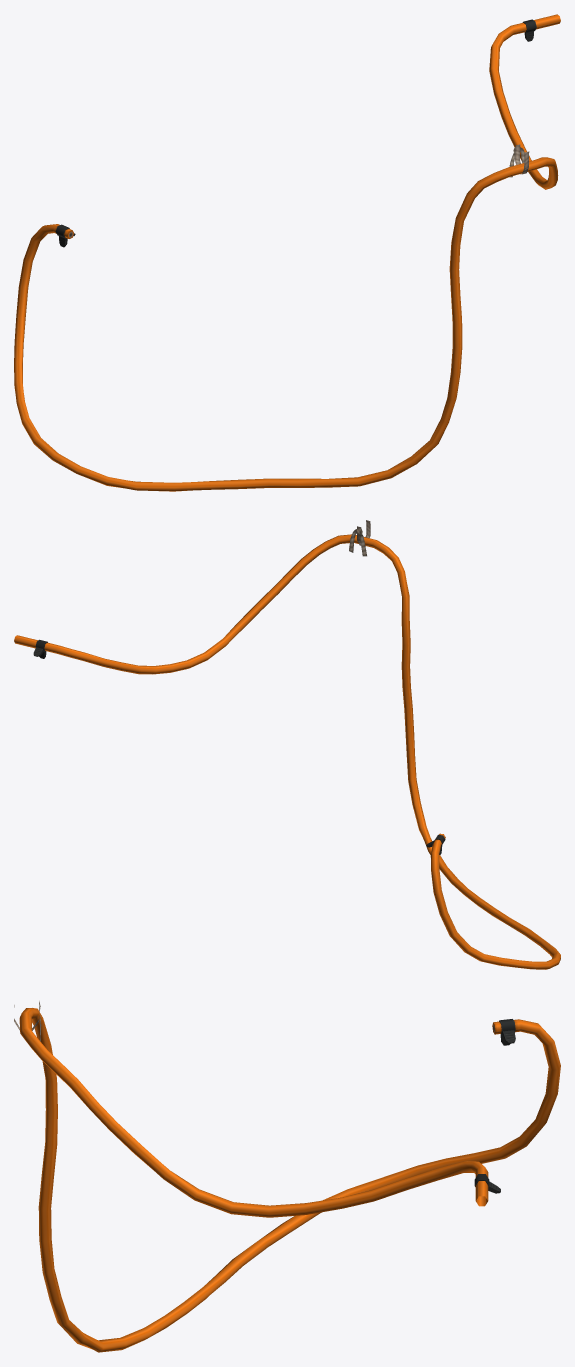
The model's file is jsf_GasRange_16b.fbx.
The picture shows the model from 3 angles, top to bottom: view 1: azimuth 30°, elevation 25°; view 2: azimuth 150°, elevation 25°; view 3: azimuth 270°, elevation 25°; orthographic projection. The views are drawn at different scales.
Parts seen in each view (by area): view 1: GasHose; view 2: GasHose; view 3: GasHose.
Part boxes in pixels (x1=…): GasHose: x1=14, y1=14, x2=560, y2=491; GasHose: x1=14, y1=520, x2=560, y2=969; GasHose: x1=14, y1=1001, x2=560, y2=1352.
Size of the model in its own units: 119 by 68.15 by 77.68.
